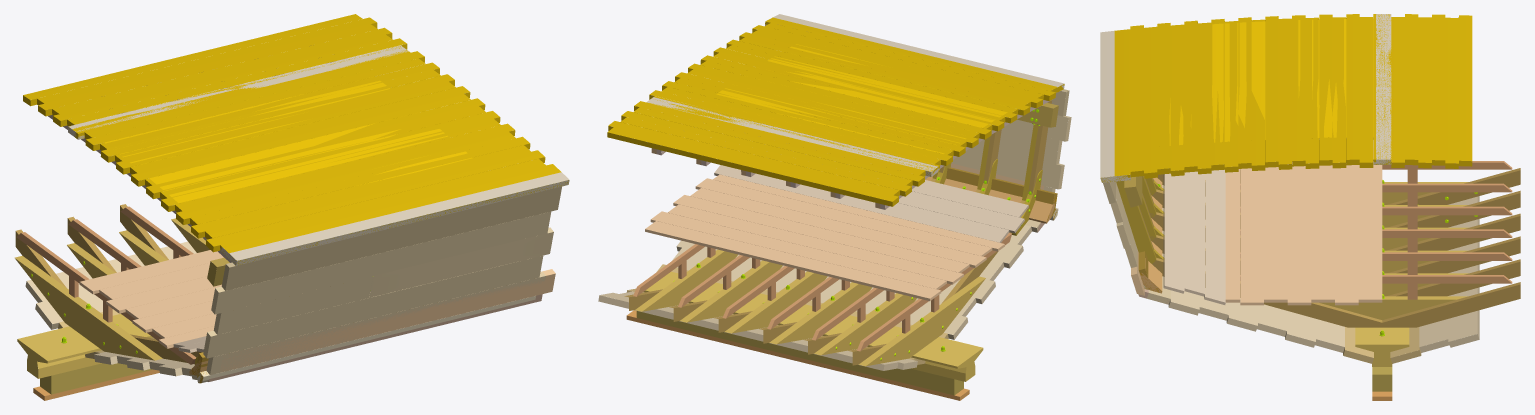
File: VBottom.glb
3 renders of one model, left to right at view 1: azimuth 30°, elevation 25°; view 2: azimuth 150°, elevation 25°; view 3: azimuth 270°, elevation 25°, orthographic. The views are drawn at different scales.
Visible parts, largest first — view 1: Planked Deck, Topside Planking, Plywood Deck, Sole, Sheer Plank, Chine Planking, Keel, Floor Timbers, Chine Planks, Bottom Planking, Lower Frames, Two Piece Chine; view 2: Planked Deck, Sole, Floor Timbers, Plywood Deck, Keel, Ceiling, Bottom Planking, Topside Planking, Upper Frames (×2), Lower Frames, Inside Chine, Two Piece Chine (+2 smaller); view 3: Planked Deck, Sole, Lower Frames, Plywood Deck, Ceiling, Bottom Planking, Floor Timbers, Keel, Upper Frames, Garboards, Topside Planking, Two Piece Chine (+2 smaller).
Boxes of the visible parts, <box> form: Planked Deck: <box>23,14,569,265</box>; Topside Planking: <box>203,211,553,358</box>; Plywood Deck: <box>68,45,569,265</box>; Sole: <box>16,206,223,364</box>; Sheer Plank: <box>221,186,561,290</box>; Chine Planking: <box>194,269,555,381</box>; Keel: <box>17,314,159,400</box>; Floor Timbers: <box>14,218,210,360</box>; Chine Planks: <box>191,271,545,379</box>; Bottom Planking: <box>25,241,196,376</box>; Lower Frames: <box>15,204,201,364</box>; Two Piece Chine: <box>189,296,535,383</box>; Planked Deck: <box>607,17,1064,206</box>; Sole: <box>633,174,1011,351</box>; Floor Timbers: <box>635,249,985,366</box>; Plywood Deck: <box>646,14,1064,176</box>; Keel: <box>626,271,983,400</box>; Ceiling: <box>714,165,1028,242</box>; Bottom Planking: <box>598,225,1031,370</box>; Topside Planking: <box>951,115,1071,189</box>; Upper Frames (×2): <box>932,100,1052,235</box>; Lower Frames: <box>624,178,1025,365</box>; Inside Chine: <box>946,167,1057,217</box>; Two Piece Chine: <box>925,176,1058,223</box>; Planked Deck: <box>1101,14,1472,182</box>; Sole: <box>1225,161,1512,305</box>; Lower Frames: <box>1148,168,1520,327</box>; Plywood Deck: <box>1100,14,1391,182</box>; Ceiling: <box>1163,169,1225,304</box>; Bottom Planking: <box>1168,174,1479,352</box>; Floor Timbers: <box>1319,182,1468,320</box>; Keel: <box>1355,327,1409,400</box>; Upper Frames: <box>1116,176,1164,263</box>; Garboards: <box>1343,327,1421,363</box>; Topside Planking: <box>1110,182,1137,267</box>; Two Piece Chine: <box>1140,177,1162,293</box>.
Bounding box in the file's own units: 3.08 × 1.92 × 3.16.
